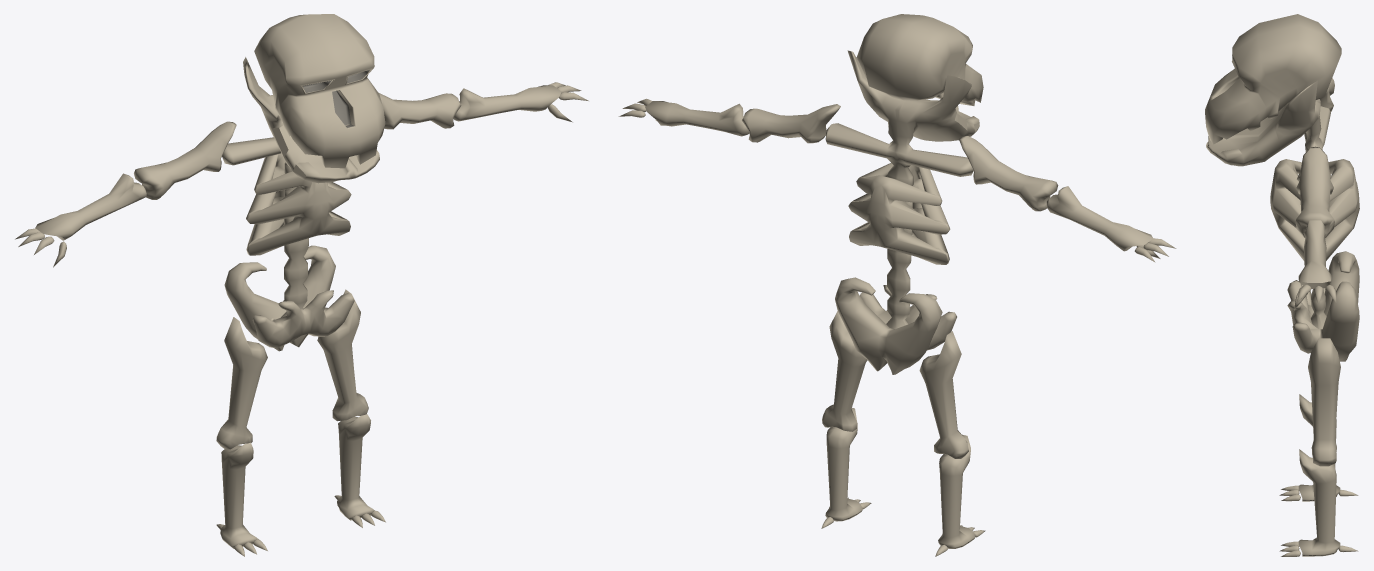
File: skeleton.fbx
3 views of the same model, side by side, from view 1: azimuth 30°, elevation 25°; view 2: azimuth 150°, elevation 25°; view 3: azimuth 270°, elevation 25° (orthographic). The views are drawn at different scales.
Visible parts, largest first — view 1: polySurface35; view 2: polySurface35; view 3: polySurface35.
Part boxes in pixels (x1,y1,x2,y2): polySurface35: (15, 14, 588, 556); polySurface35: (618, 14, 1176, 556); polySurface35: (1205, 14, 1359, 556).
Bounding box in the file's own units: 1.63 × 1.42 × 0.3986.
2 materials, 1 textured.
